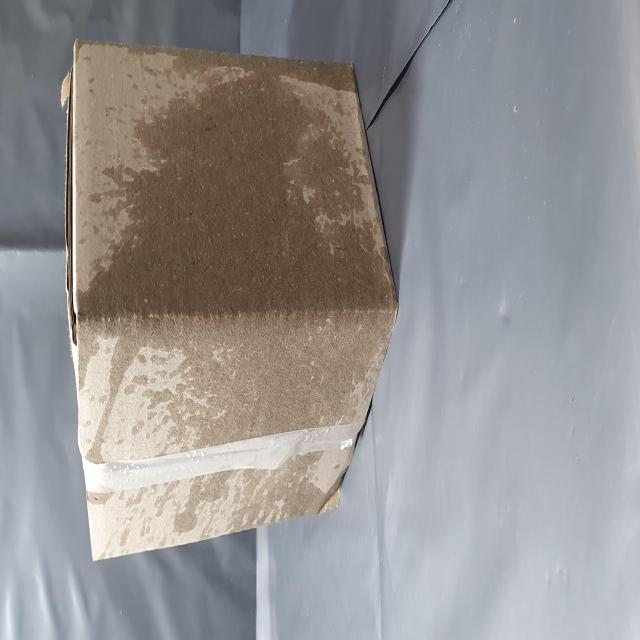wet: (109, 141, 322, 640), (53, 304, 102, 602)
